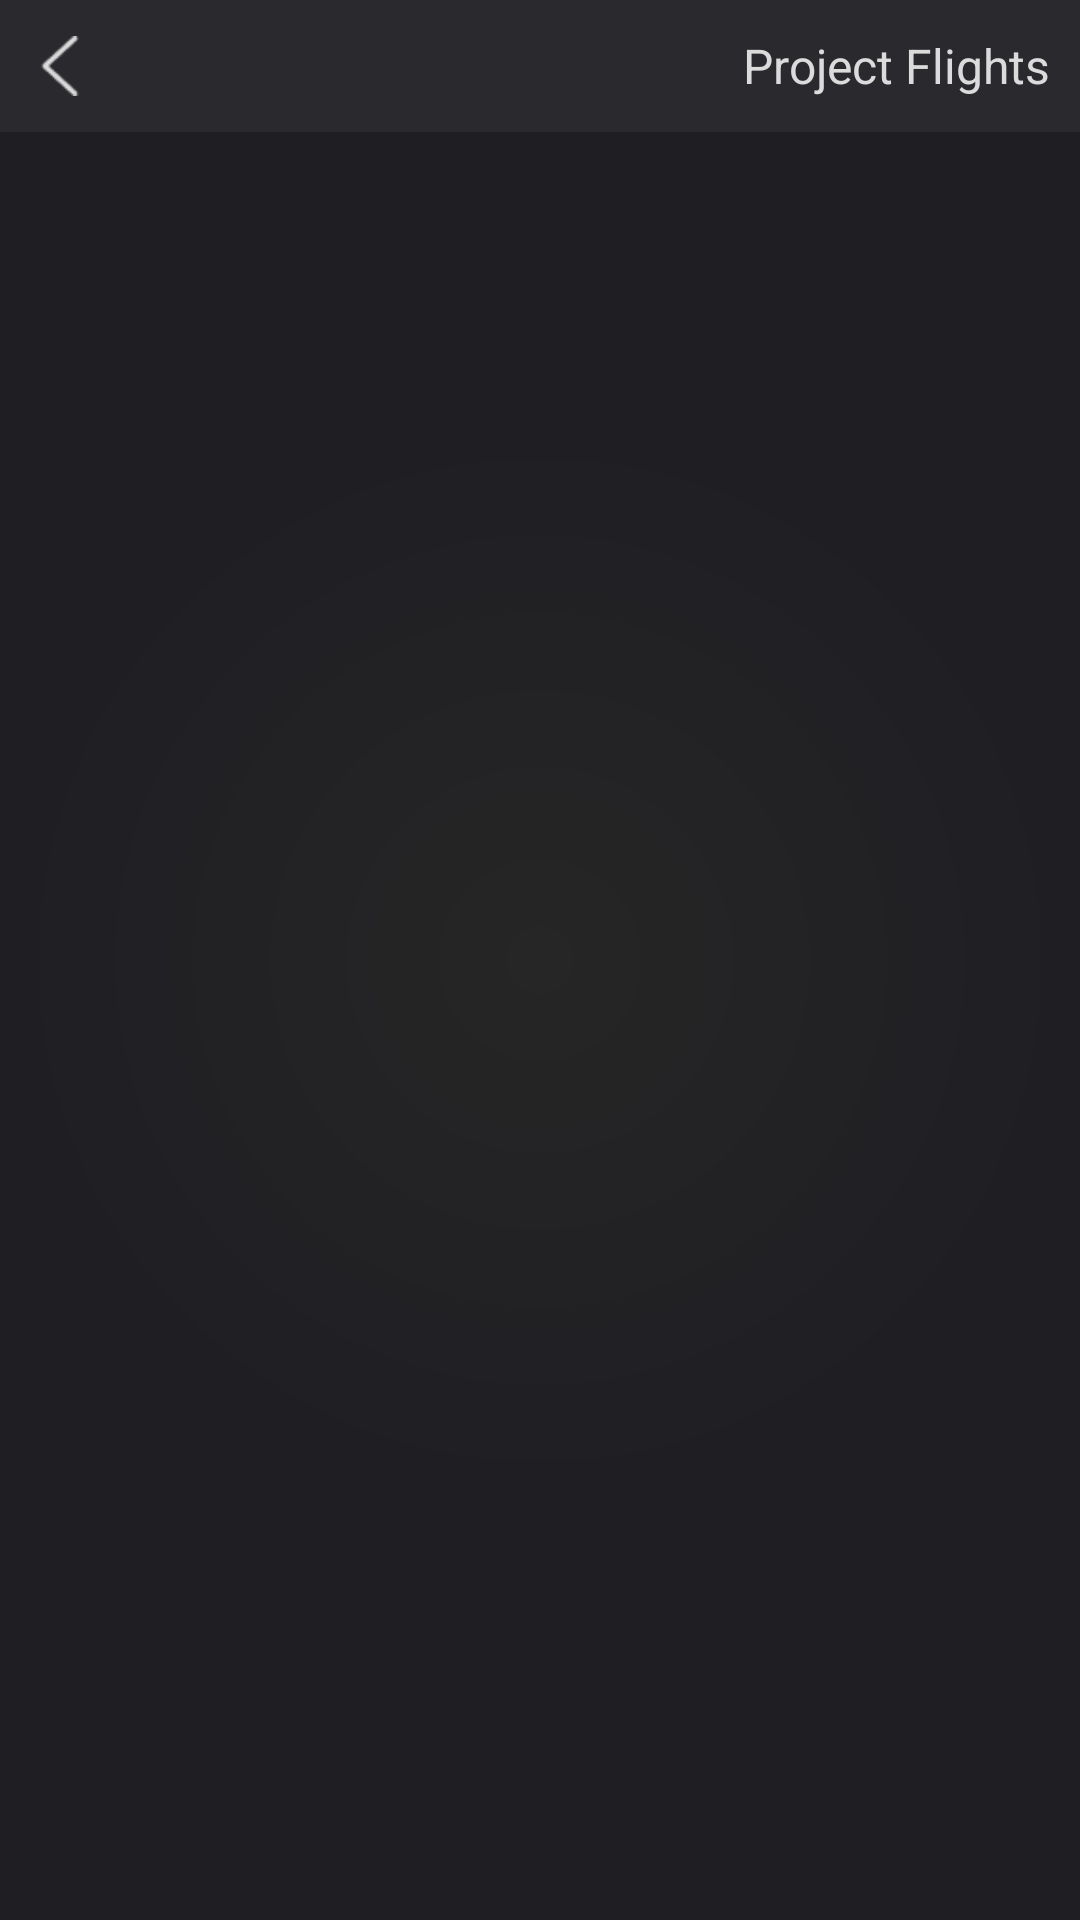

Point at icon controls on the screen. Image size 1080 × 1920, points as (x=x, y=y).
back: (x=59, y=66)
